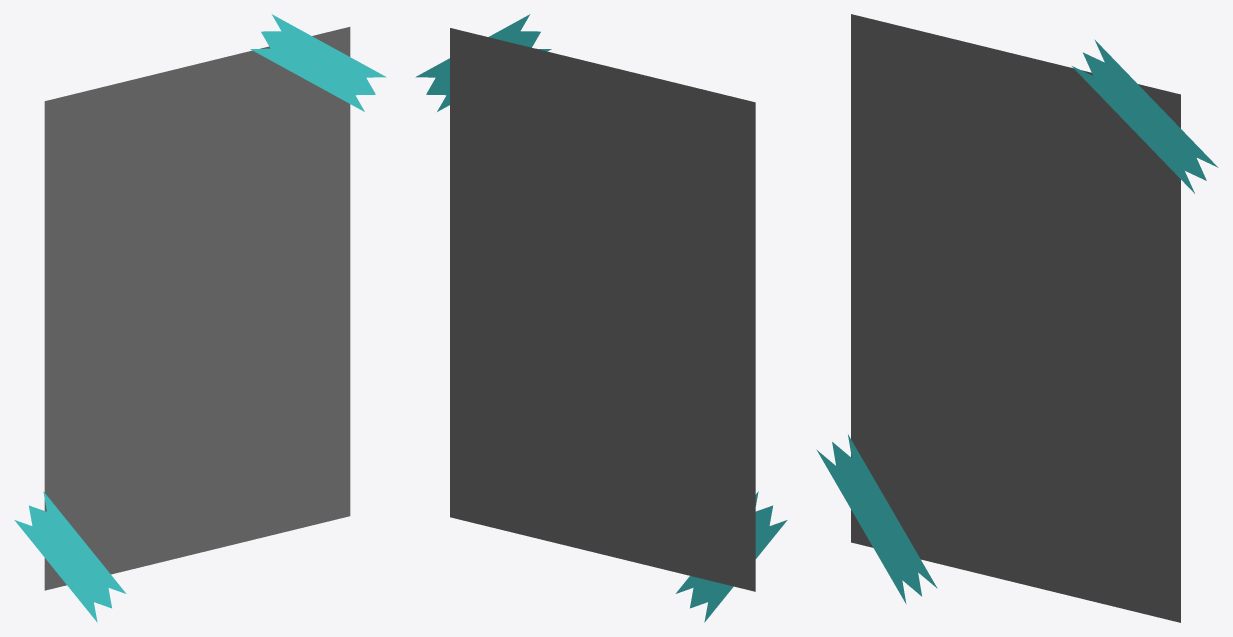
File: sm_stickyplatform.fbx
3 renders of one model, left to right at view 1: azimuth 30°, elevation 25°; view 2: azimuth 150°, elevation 25°; view 3: azimuth 330°, elevation 25°, orthographic. The views are drawn at different scales.
Visible parts, largest first — view 1: image_low, tape_low, tapeother_low; view 2: image_low, tape_low, tapeother_low; view 3: image_low, tape_low, tapeother_low.
Boxes of the visible parts, <box> form: image_low: <box>44,27,350,590</box>; tape_low: <box>14,491,126,622</box>; tapeother_low: <box>250,14,386,111</box>; image_low: <box>450,28,755,591</box>; tape_low: <box>675,491,787,622</box>; tapeother_low: <box>415,14,551,111</box>; image_low: <box>851,14,1180,622</box>; tape_low: <box>816,434,937,603</box>; tapeother_low: <box>1072,39,1218,193</box>.
Size of the model in its own units: 49.1 by 71.3 by 0.179.
